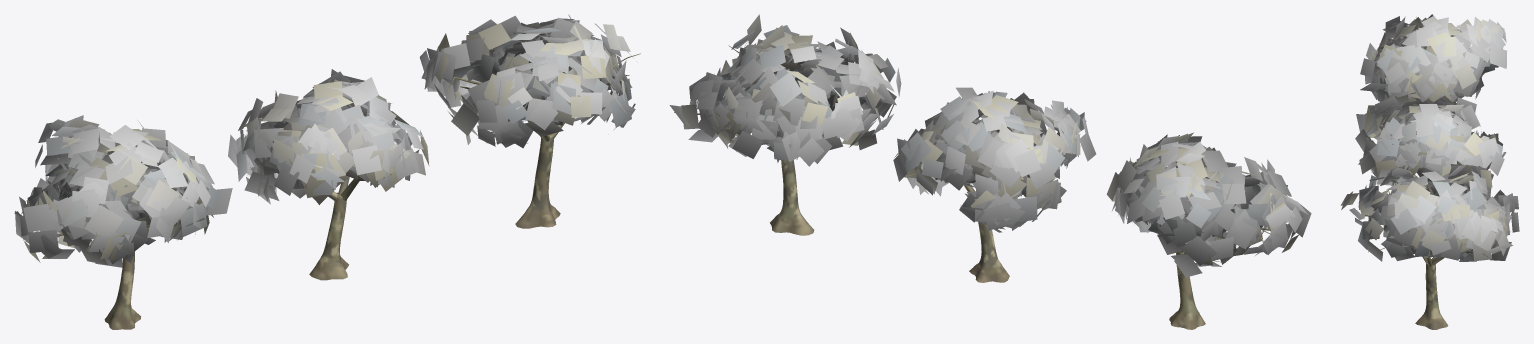
Rendered from plane_tree.glb.
3 renders of one model, left to right at view 1: azimuth 30°, elevation 25°; view 2: azimuth 150°, elevation 25°; view 3: azimuth 270°, elevation 25°, orthographic. The views are drawn at different scales.
Visible parts, largest first — view 1: plane_tree_a_leaves, plane_tree_c_leaves, plane_tree_b_leaves, plane_tree_c, plane_tree_b, plane_tree_a; view 2: plane_tree_c_leaves, plane_tree_b_leaves, plane_tree_a_leaves, plane_tree_c, plane_tree_b, plane_tree_a; view 3: plane_tree_c_leaves, plane_tree_a_leaves, plane_tree_b_leaves, plane_tree_c.
Part boxes in pixels (x1=…): plane_tree_a_leaves: x1=14, y1=115, x2=232, y2=267; plane_tree_c_leaves: x1=419, y1=14, x2=635, y2=148; plane_tree_b_leaves: x1=228, y1=69, x2=429, y2=204; plane_tree_c: x1=447, y1=53, x2=640, y2=228; plane_tree_b: x1=250, y1=169, x2=360, y2=280; plane_tree_a: x1=57, y1=198, x2=187, y2=329; plane_tree_c_leaves: x1=669, y1=14, x2=901, y2=166; plane_tree_b_leaves: x1=893, y1=87, x2=1096, y2=232; plane_tree_a_leaves: x1=1106, y1=132, x2=1311, y2=277; plane_tree_c: x1=674, y1=45, x2=814, y2=235; plane_tree_b: x1=909, y1=173, x2=1024, y2=282; plane_tree_a: x1=1153, y1=218, x2=1270, y2=329; plane_tree_c_leaves: x1=1340, y1=161, x2=1519, y2=261; plane_tree_a_leaves: x1=1360, y1=14, x2=1507, y2=104; plane_tree_b_leaves: x1=1355, y1=94, x2=1506, y2=189; plane_tree_c: x1=1365, y1=190, x2=1489, y2=329.
Bounding box in the file's own units: 32.47 × 10.04 × 10.7.
